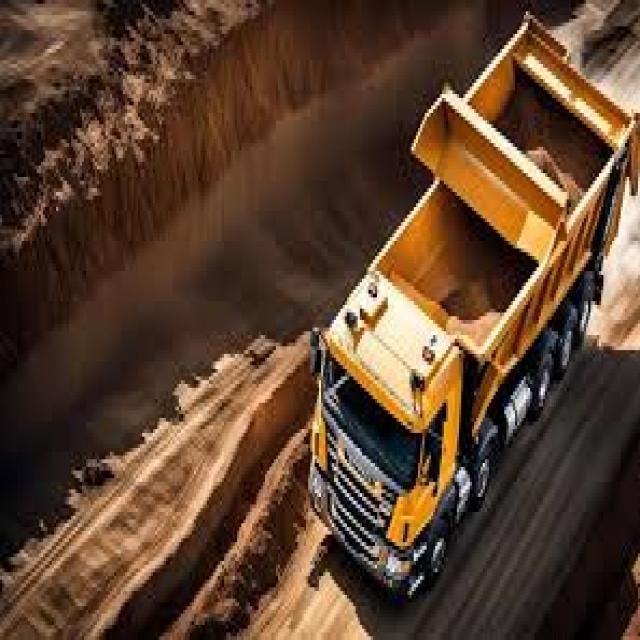truck: (307, 13, 635, 592)
